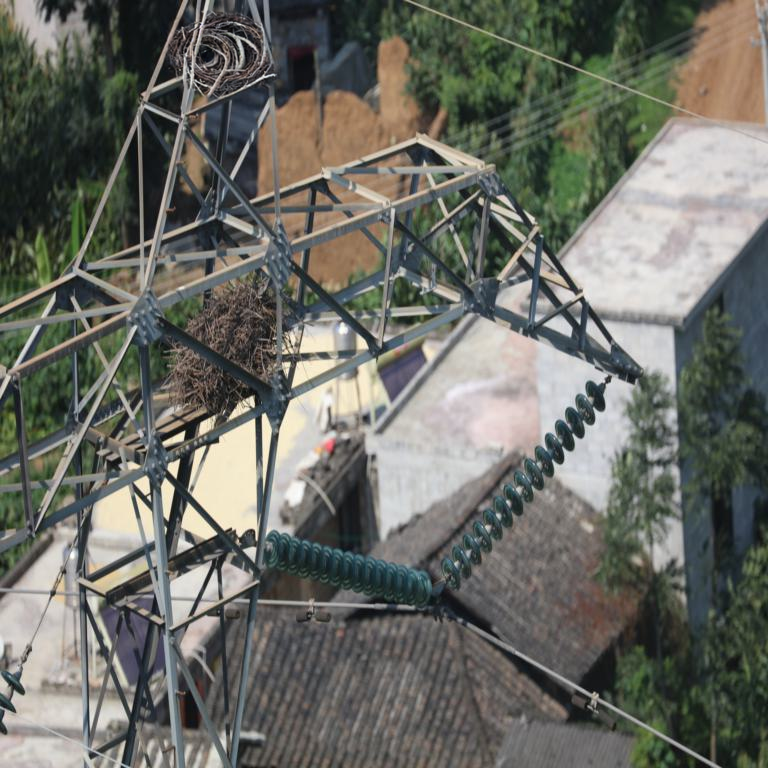nest: (174, 292, 282, 410), (169, 21, 271, 95)
